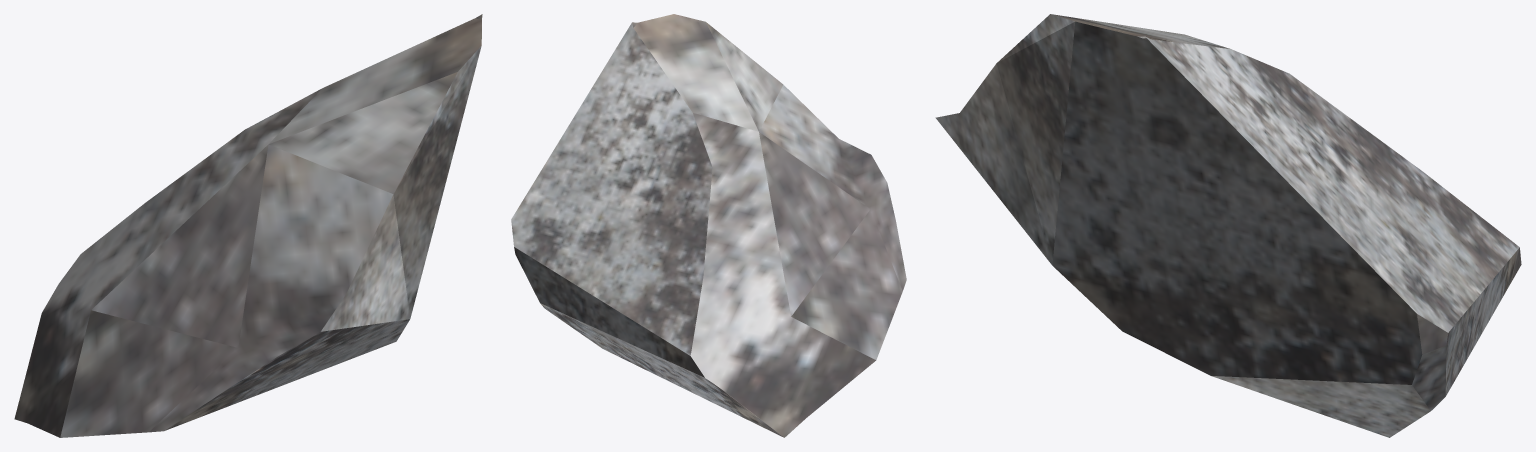
File: Asteroid_Large_001_02_009_03_038.fbx
3 renders of one model, left to right at view 1: azimuth 30°, elevation 25°; view 2: azimuth 150°, elevation 25°; view 3: azimuth 270°, elevation 25°, orthographic. The views are drawn at different scales.
Parts seen in each view (by area): view 1: Asteroid_Large_001_02_009_03_038; view 2: Asteroid_Large_001_02_009_03_038; view 3: Asteroid_Large_001_02_009_03_038.
Boxes of the visible parts, left/top/right/bottom form: Asteroid_Large_001_02_009_03_038: left=14, top=14, right=482, bottom=437; Asteroid_Large_001_02_009_03_038: left=511, top=14, right=906, bottom=437; Asteroid_Large_001_02_009_03_038: left=935, top=14, right=1521, bottom=437.
Bounding box in the file's own units: 5.99 × 5.38 × 5.87.
